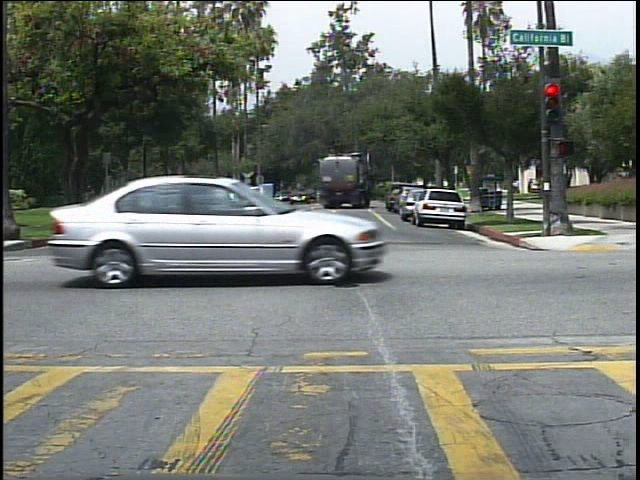person: (509, 177, 523, 197)
